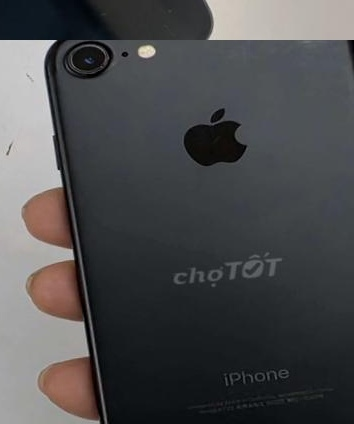scratch: (55, 40, 115, 80), (273, 40, 346, 55)
